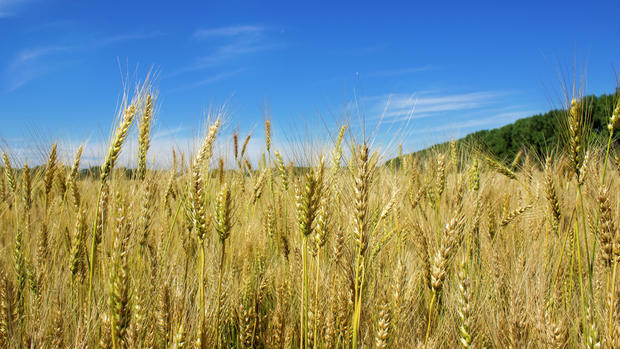wheat: (141, 89, 436, 337), (1, 74, 159, 341), (391, 135, 542, 334), (529, 51, 620, 345)
